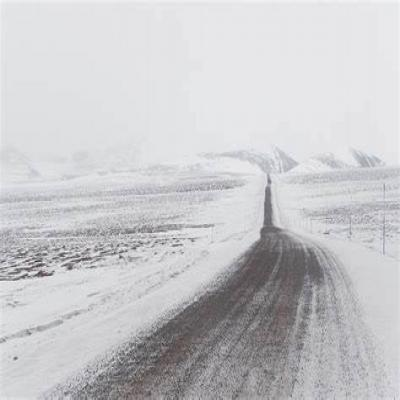iced-road: (63, 184, 389, 400)
